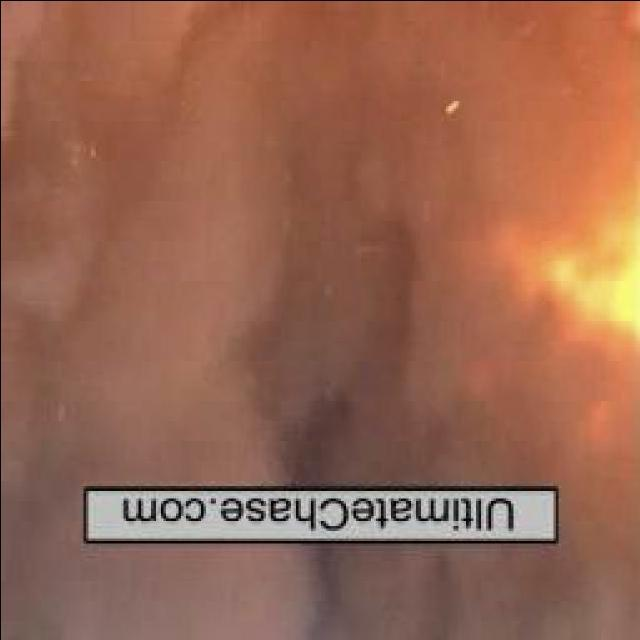Fire: (408, 149, 640, 482)
